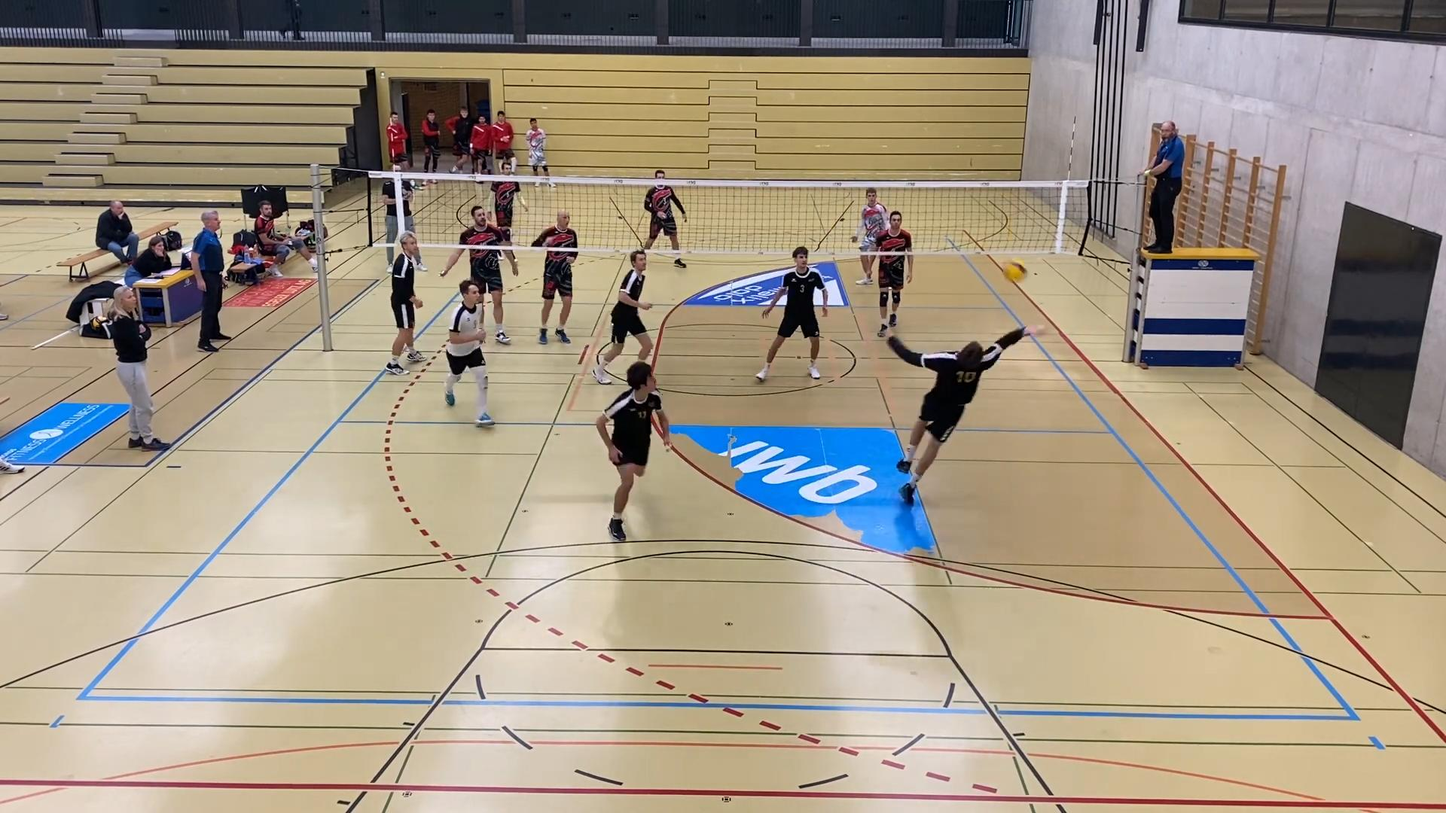difesa: (882, 322, 1044, 504)
